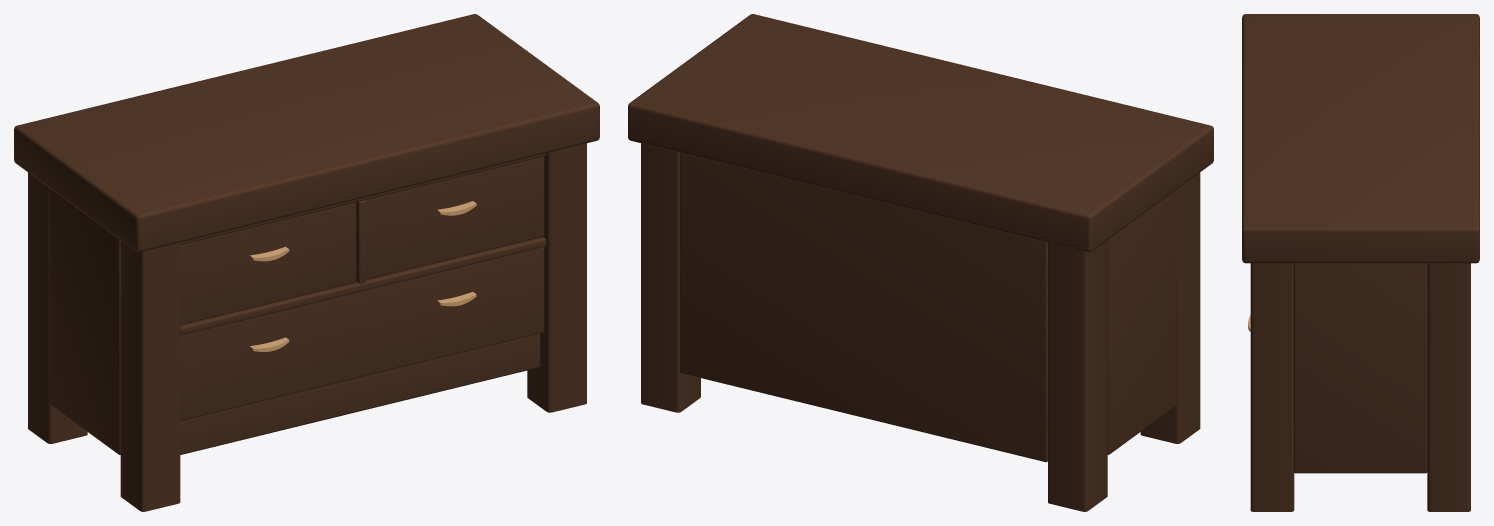
File: Console.fbx
3 views of the same model, side by side, from view 1: azimuth 30°, elevation 25°; view 2: azimuth 150°, elevation 25°; view 3: azimuth 270°, elevation 25° (orthographic). The views are drawn at different scales.
Visible parts, largest first — view 1: Console_starnick; view 2: Console_starnick; view 3: Console_starnick.
Boxes of the visible parts, x1,y1,x2,y2 form: Console_starnick: [14, 14, 599, 511]; Console_starnick: [628, 14, 1213, 511]; Console_starnick: [1242, 14, 1479, 511].
Bounding box in the file's own units: 1288 × 600 × 800.
